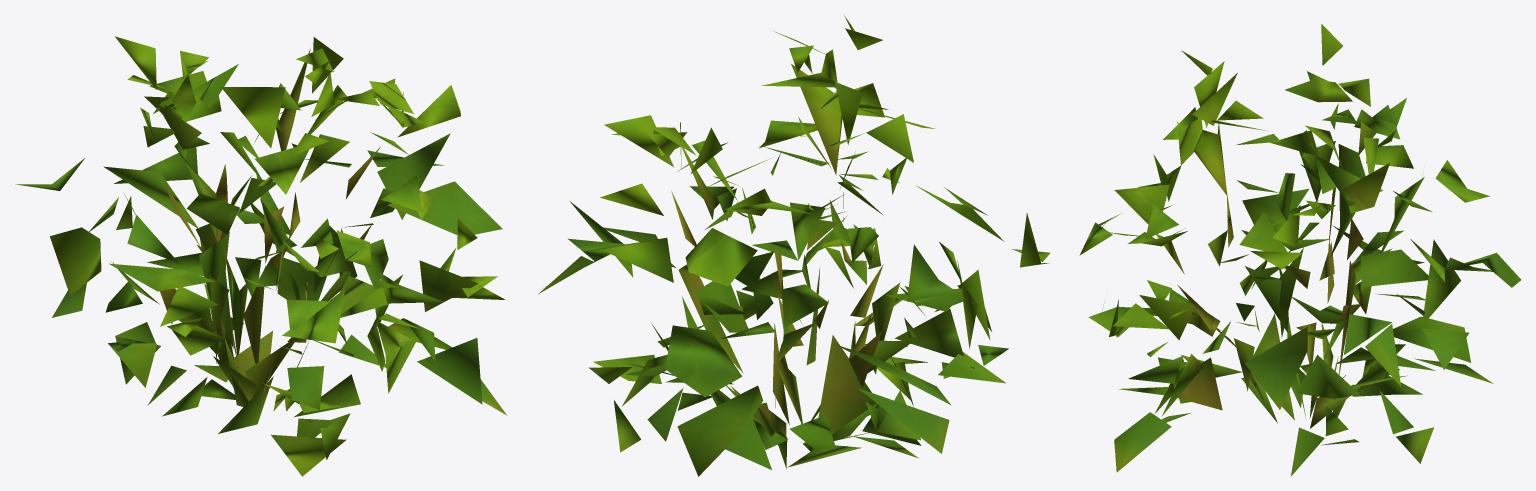
Rendered from p_herb_a.glb.
3 renders of one model, left to right at view 1: azimuth 30°, elevation 25°; view 2: azimuth 150°, elevation 25°; view 3: azimuth 270°, elevation 25°, orthographic. The views are drawn at different scales.
Visible parts, largest first — view 1: tripo_node_090da072-ec47-4dac-8be8-50f0100ffb80; view 2: tripo_node_090da072-ec47-4dac-8be8-50f0100ffb80; view 3: tripo_node_090da072-ec47-4dac-8be8-50f0100ffb80.
Part boxes in pixels (x1,y1,x2,y2): tripo_node_090da072-ec47-4dac-8be8-50f0100ffb80: (15, 36, 507, 476); tripo_node_090da072-ec47-4dac-8be8-50f0100ffb80: (538, 15, 1050, 476); tripo_node_090da072-ec47-4dac-8be8-50f0100ffb80: (1079, 24, 1521, 476).
Bounding box in the file's own units: 1.18 × 1.01 × 1.09.
Materials: 1 (1 with a texture image).
